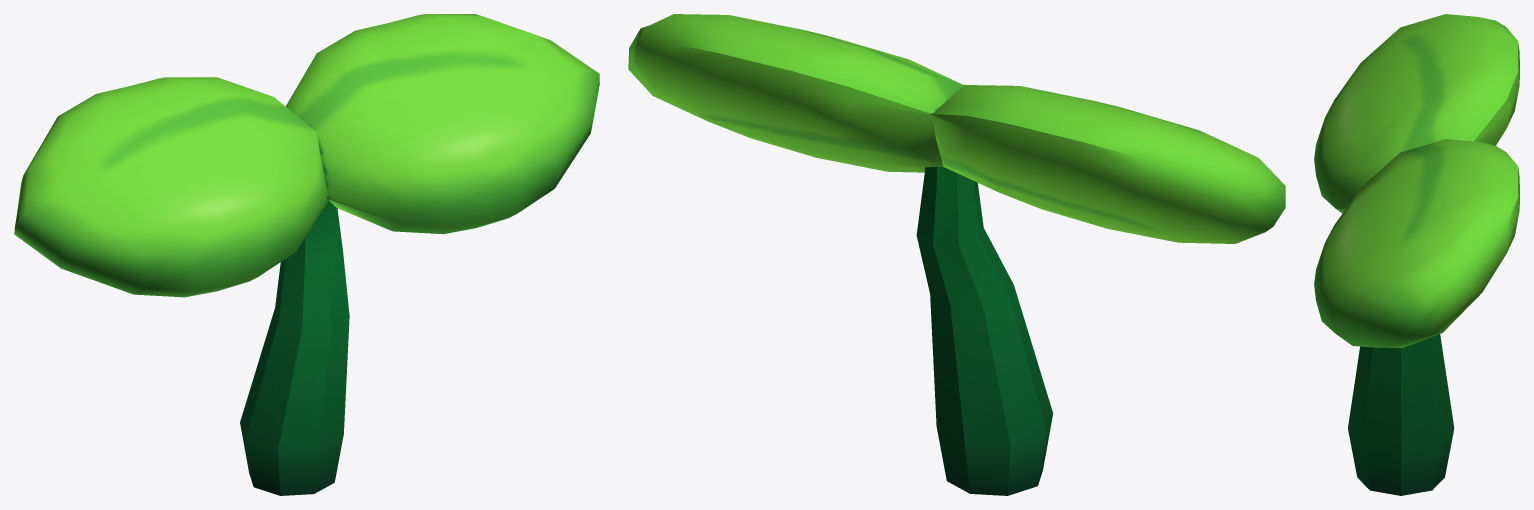
Rendered from Seedling.fbx.
3 views of the same model, side by side, from view 1: azimuth 30°, elevation 25°; view 2: azimuth 150°, elevation 25°; view 3: azimuth 270°, elevation 25° (orthographic). The views are drawn at different scales.
Visible parts, largest first — view 1: Stem, SeedlingSolo; view 2: Stem, SeedlingSolo; view 3: Stem, SeedlingSolo.
Boxes of the visible parts, x1,y1,x2,y2 form: Stem: (14,14,599,297); SeedlingSolo: (240,201,349,495); Stem: (628,14,1285,243); SeedlingSolo: (916,167,1053,495); Stem: (1314,14,1519,348); SeedlingSolo: (1348,334,1454,495).
Bounding box in the file's own units: 0.8926 × 0.5594 × 0.2748.
1 material, 1 textured.
